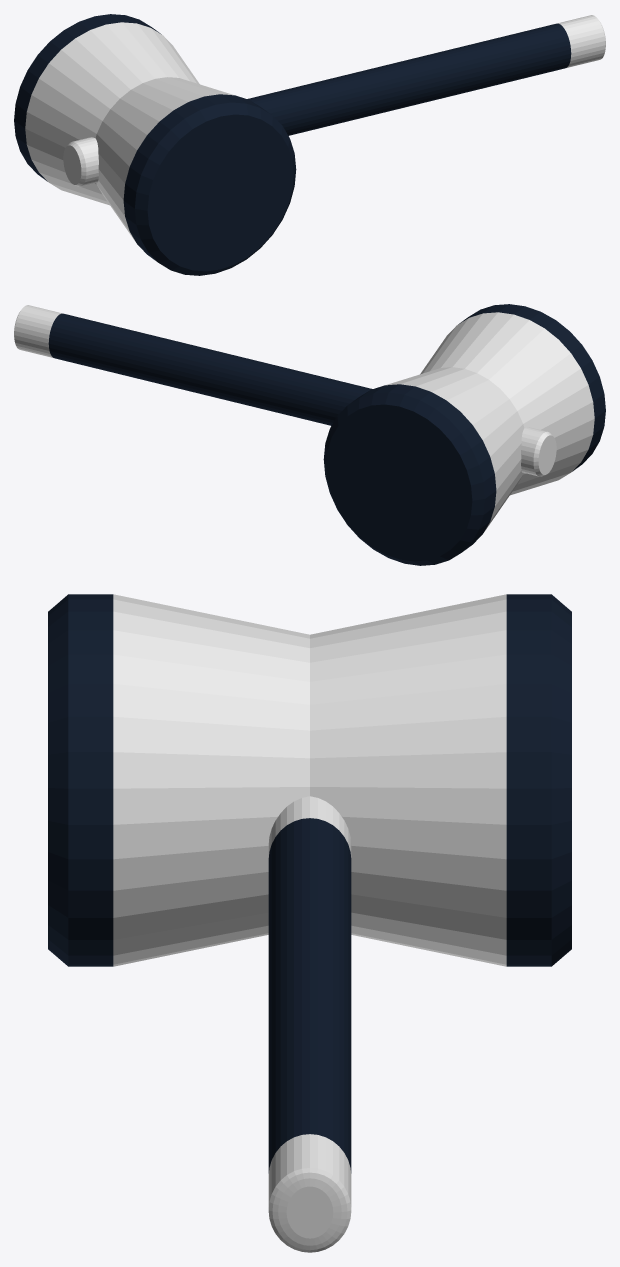
File: Hammer_assets.fbx
3 renders of one model, top to bottom at view 1: azimuth 30°, elevation 25°; view 2: azimuth 150°, elevation 25°; view 3: azimuth 270°, elevation 25°, orthographic. The views are drawn at different scales.
Parts seen in each view (by area): view 1: Hammer; view 2: Hammer; view 3: Hammer.
Part boxes in pixels (<box>): Hammer: <box>14,14,605,275</box>; Hammer: <box>14,304,605,565</box>; Hammer: <box>48,594,571,1252</box>.
Size of the model in its own units: 1421 by 437 by 614.
